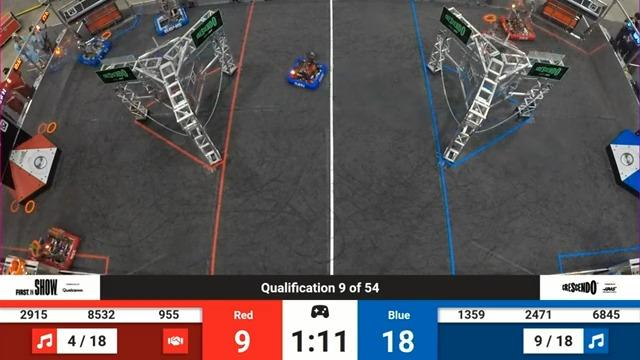robot: (19, 224, 84, 276), (281, 48, 331, 92), (147, 0, 194, 40), (497, 1, 538, 43), (76, 28, 118, 68)
